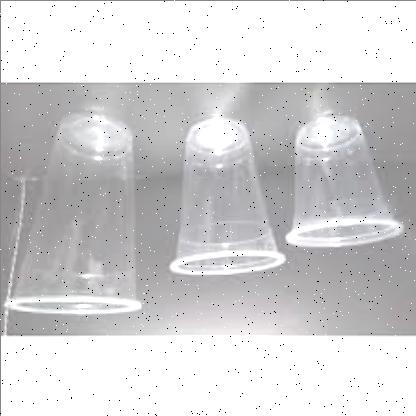Others: (6, 112, 138, 312), (170, 118, 284, 274), (286, 116, 402, 246)
